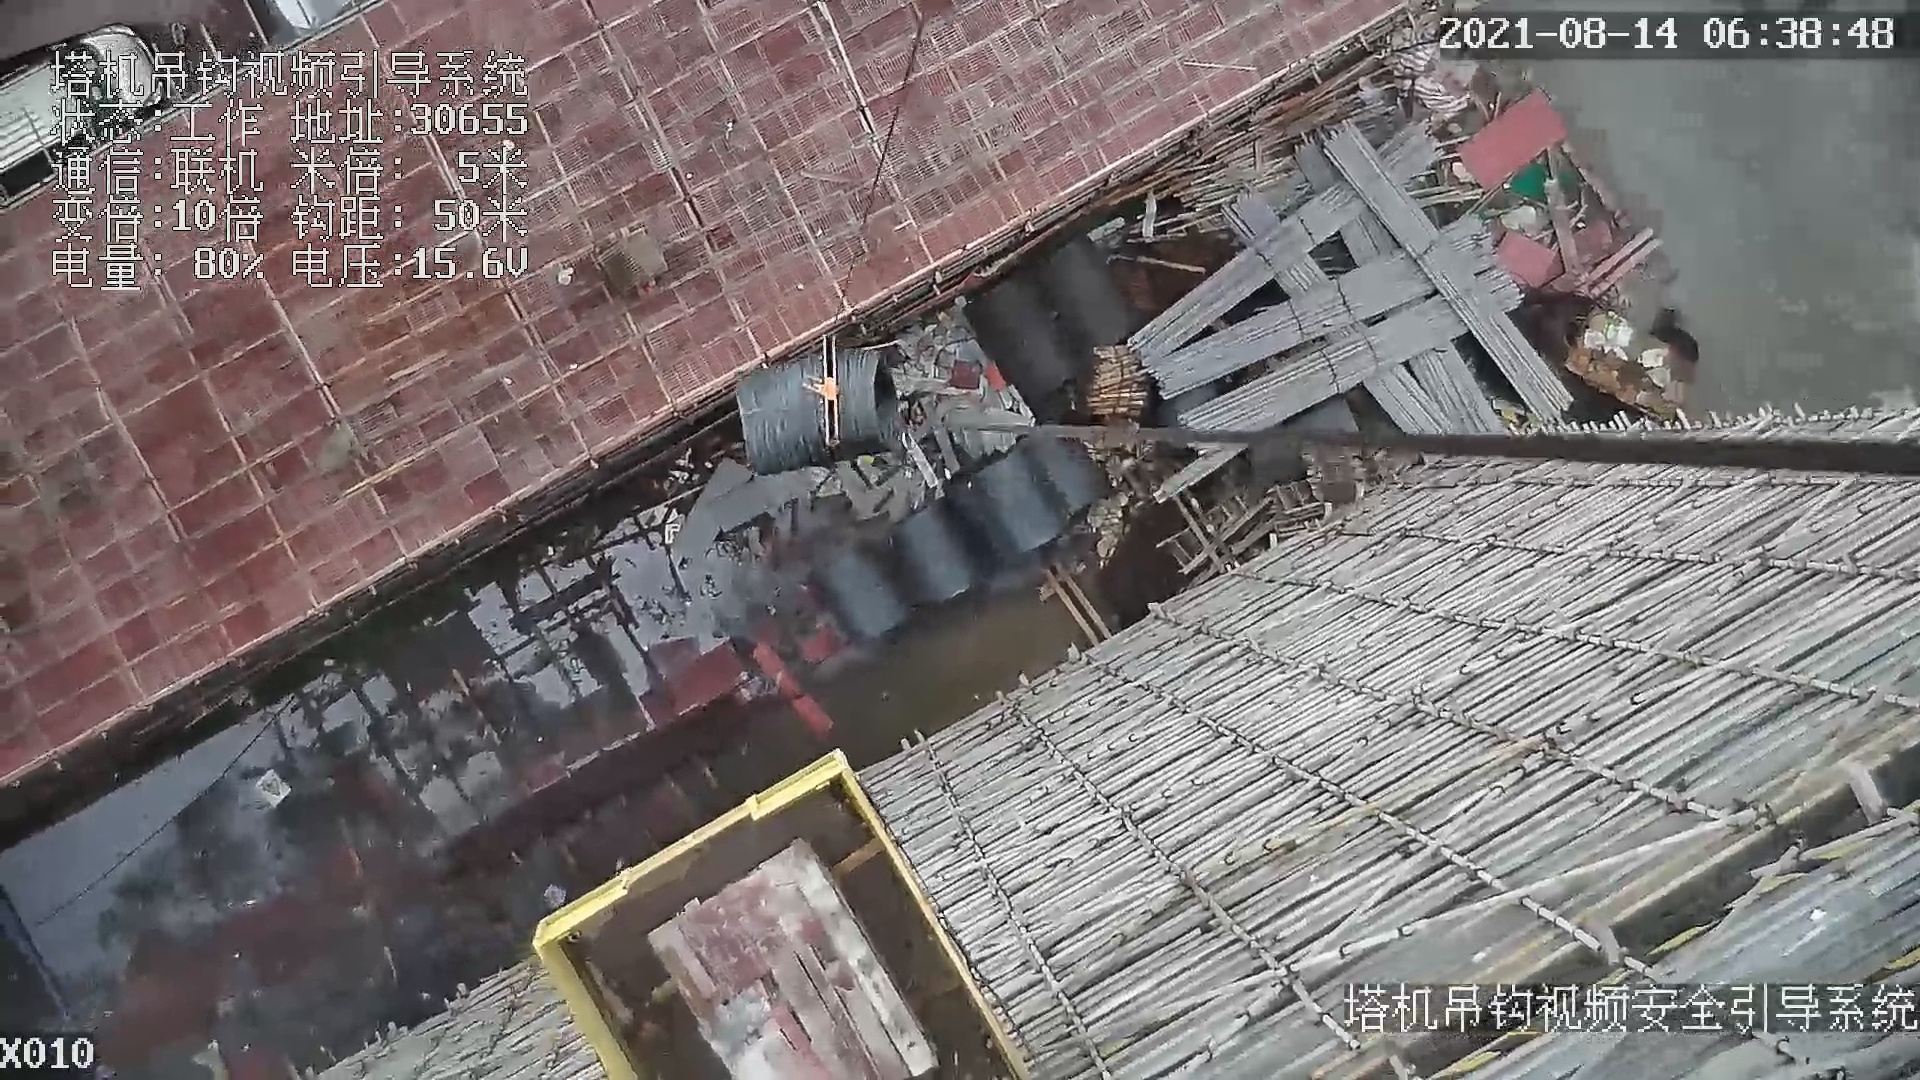hook: (800, 332, 843, 458)
